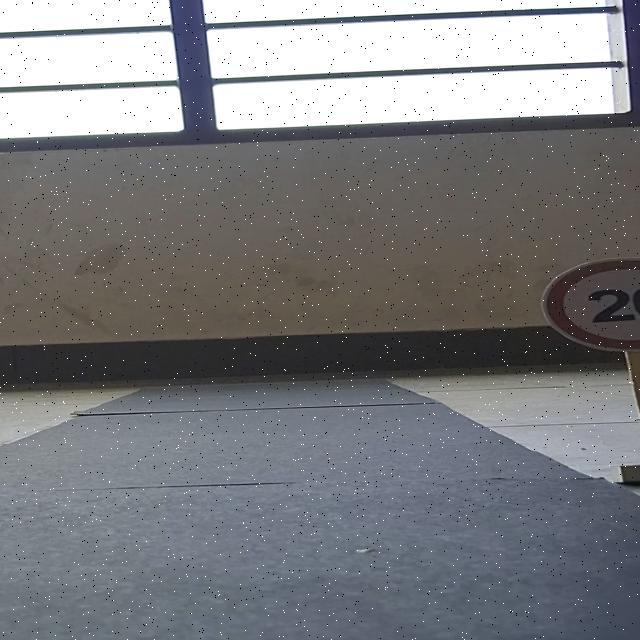Speed20: (533, 254, 640, 358)
